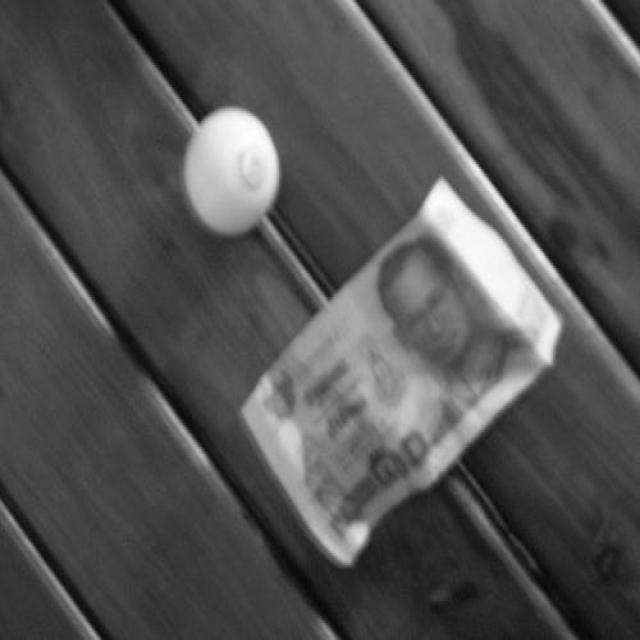ping-pong-ball: (182, 104, 282, 242)
